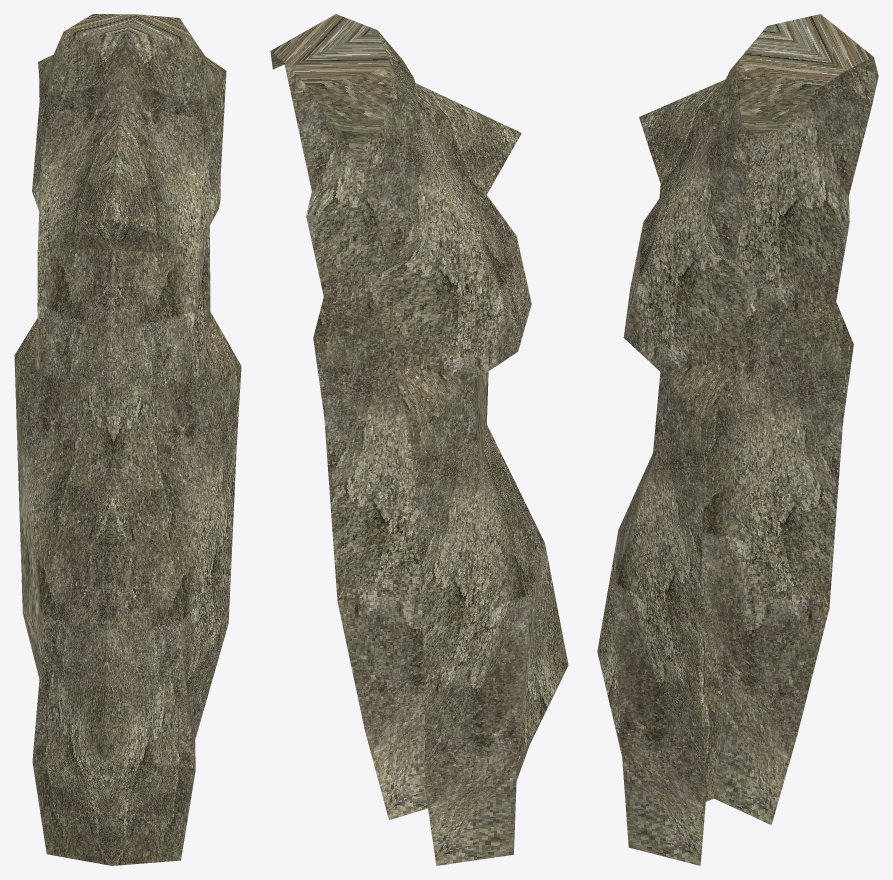
Rendered from stage-east-p7-118.glb.
3 views of the same model, side by side, from view 1: azimuth 30°, elevation 25°; view 2: azimuth 150°, elevation 25°; view 3: azimuth 270°, elevation 25° (orthographic). The views are drawn at different scales.
Bounding box in the file's own units: 8.24 × 29.42 × 9.04.
Materials: 1 (1 with a texture image).
